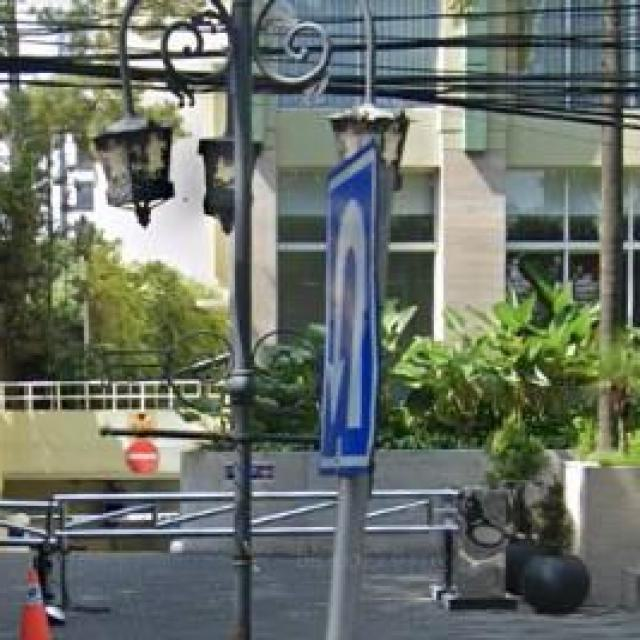U-turn: (323, 179, 374, 465)
